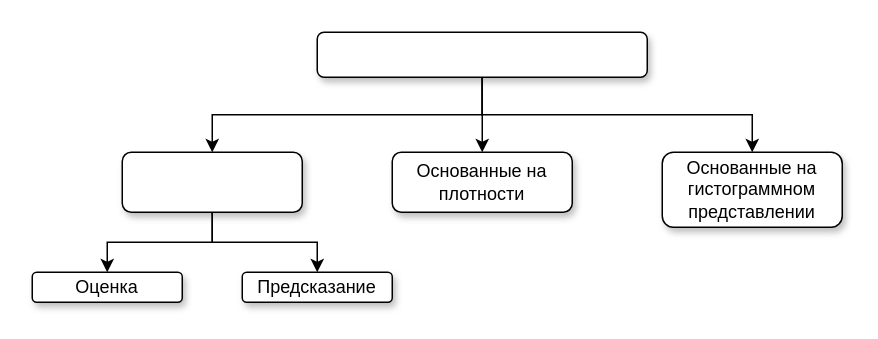
This 878x339 diagram has some shape labels left out. Each missing label, with the centre of its shape:
"Методы поиска точеных аномалий" goes at pixel 483 56.
"Основанные на моделировании" goes at pixel 213 184.
